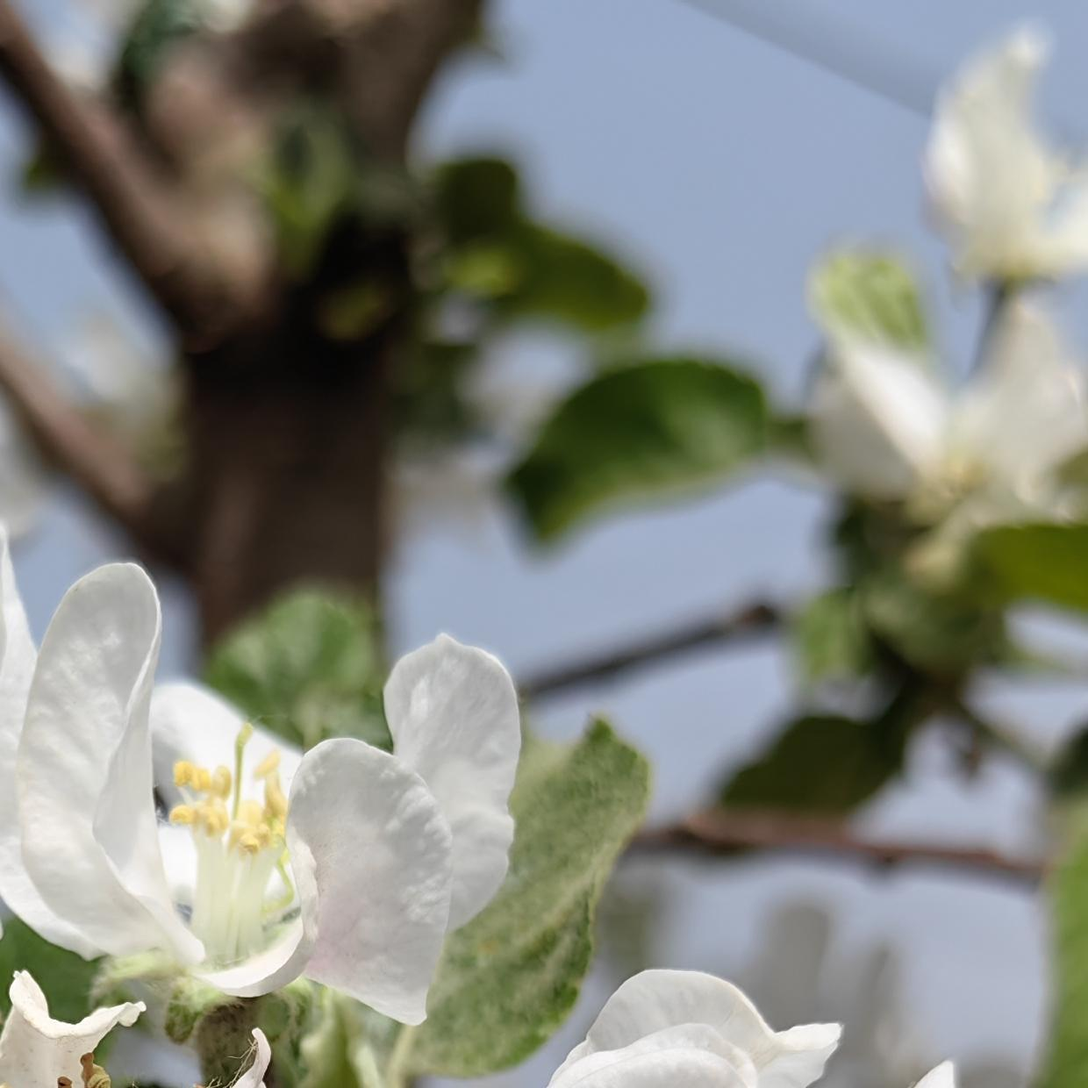apple_flower: (0, 533, 930, 1088), (815, 24, 1088, 511)
